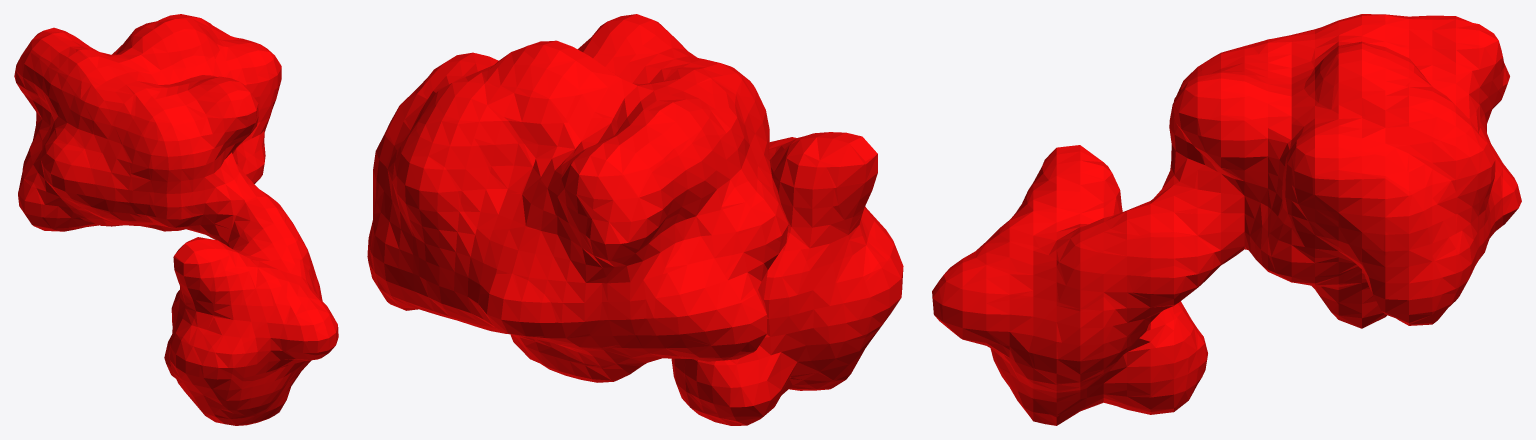
The model's file is yiaJ_coarse.dae.
3 views of the same model, side by side, from view 1: azimuth 30°, elevation 25°; view 2: azimuth 150°, elevation 25°; view 3: azimuth 270°, elevation 25° (orthographic). The views are drawn at different scales.
Parts seen in each view (by area): view 1: yiaJ; view 2: yiaJ; view 3: yiaJ.
Part boxes in pixels (x1=…): yiaJ: x1=14, y1=14, x2=338, y2=425; yiaJ: x1=367, y1=14, x2=903, y2=425; yiaJ: x1=932, y1=14, x2=1521, y2=425.
Size of the model in its own units: 48.52 by 56.43 by 76.11.
